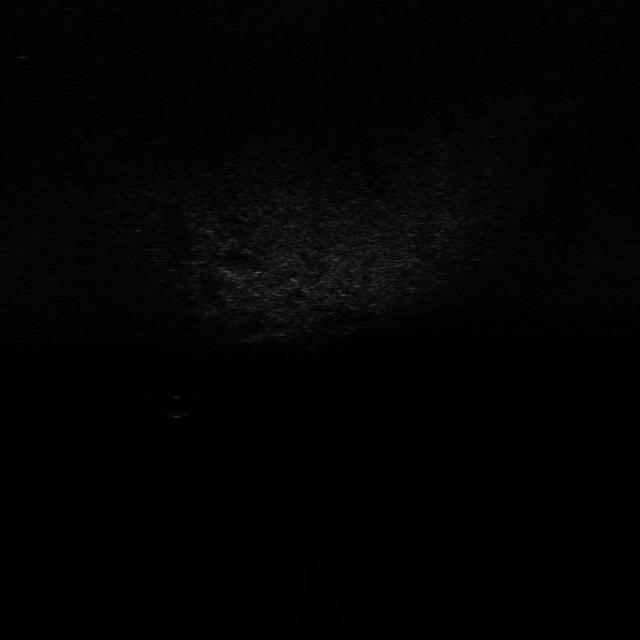ball: (158, 391, 200, 419)
